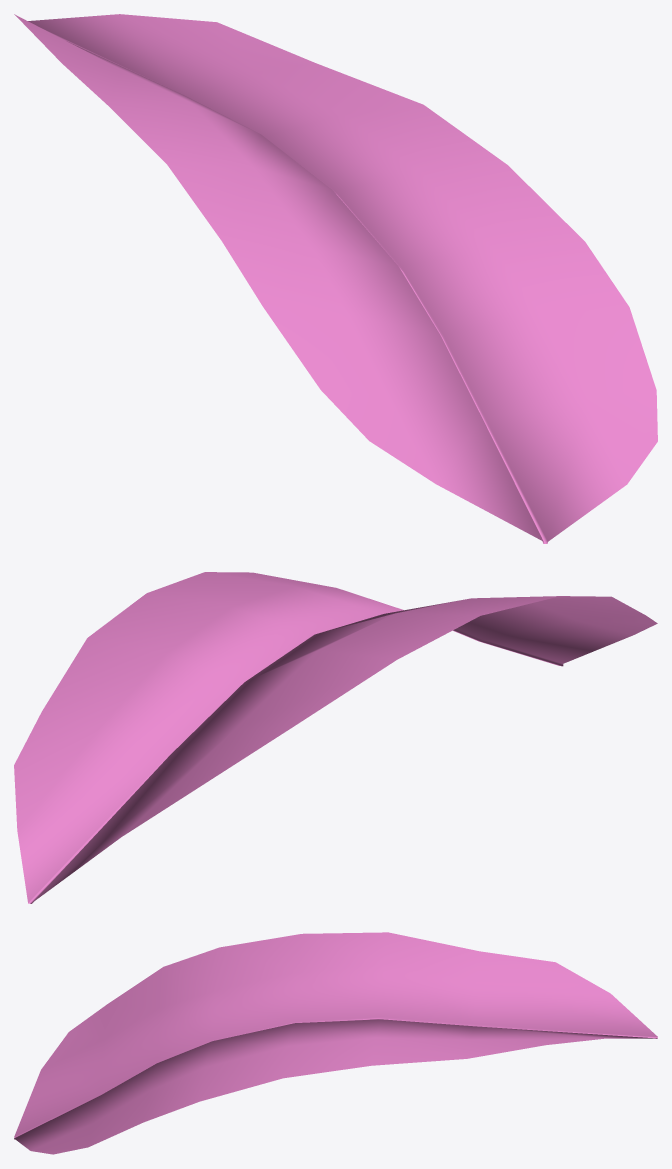
The model's file is small_petal.fbx.
3 views of the same model, one above another, from view 1: azimuth 30°, elevation 25°; view 2: azimuth 150°, elevation 25°; view 3: azimuth 270°, elevation 25° (orthographic). The views are drawn at different scales.
Visible parts, largest first — view 1: ModelB; view 2: ModelB; view 3: ModelB.
Part boxes in pixels (bbox=[...]): ModelB: bbox=[14, 14, 657, 543]; ModelB: bbox=[14, 572, 657, 903]; ModelB: bbox=[14, 932, 657, 1154].
Bounding box in the file's own units: 47.03 × 32.92 × 118.
